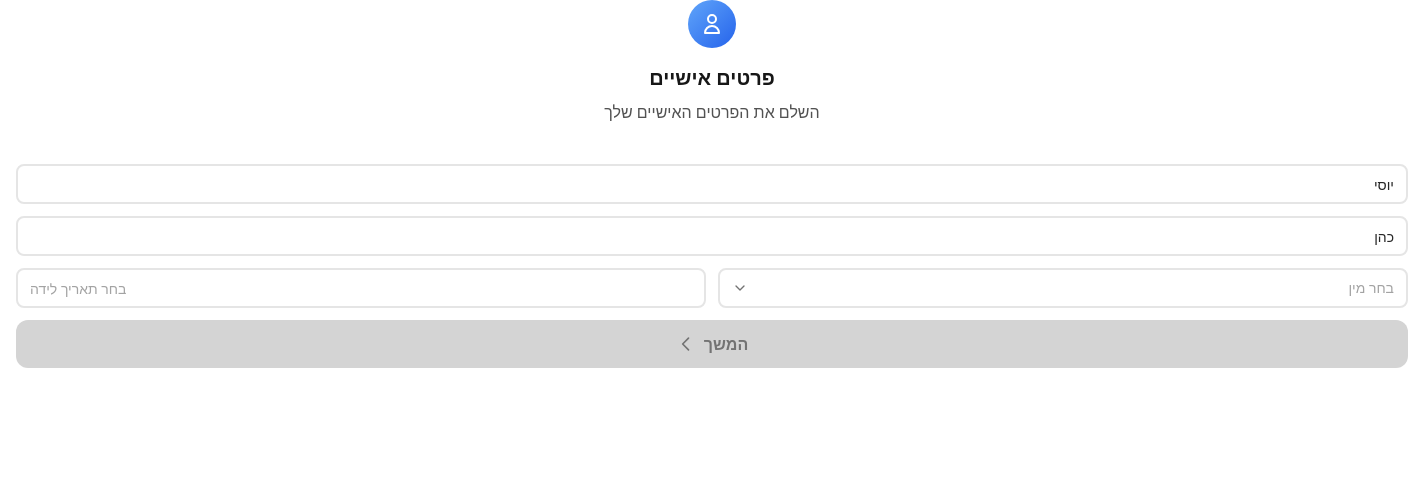
PersonalDetailsStep › Form Validation › shows the gender validation error after a selection is made
Click the button "בחר מין": (1371, 288) [718,268,1408,308]
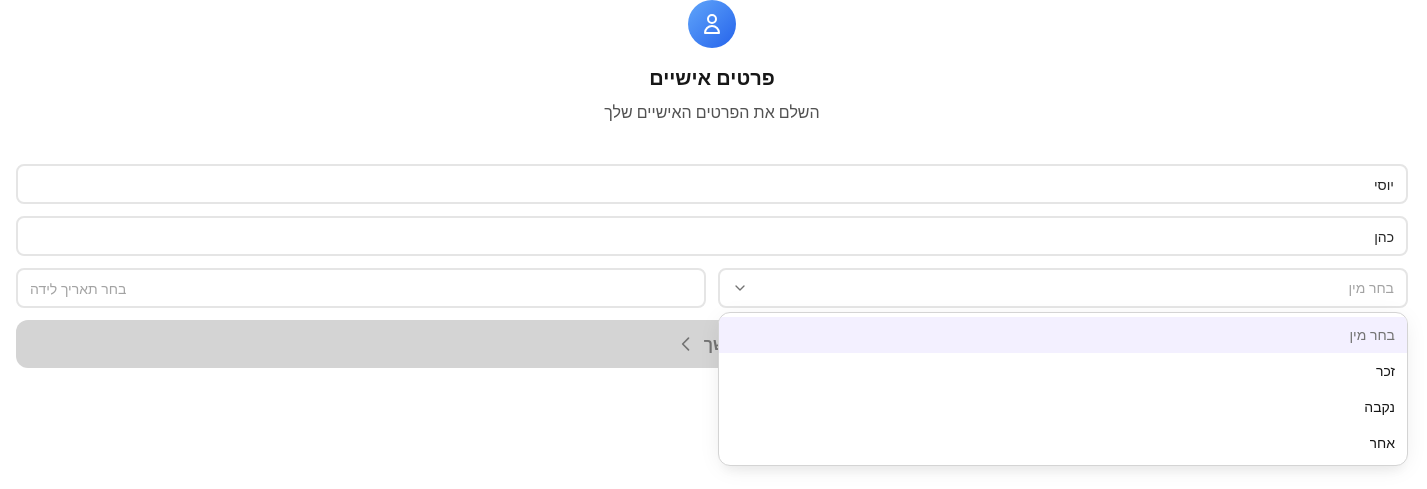
Click the option "זכר": (1385, 370) [1376,361,1395,380]
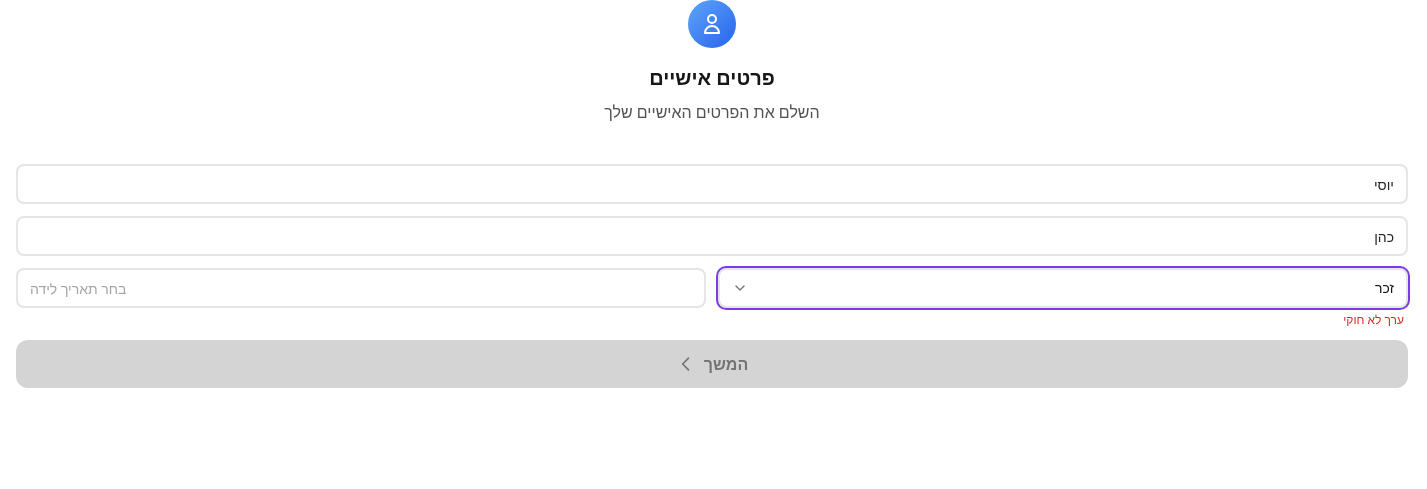
Check: the text with test id "gender-error" reads "ערך לא חוקי", box [1343,311,1404,328]
